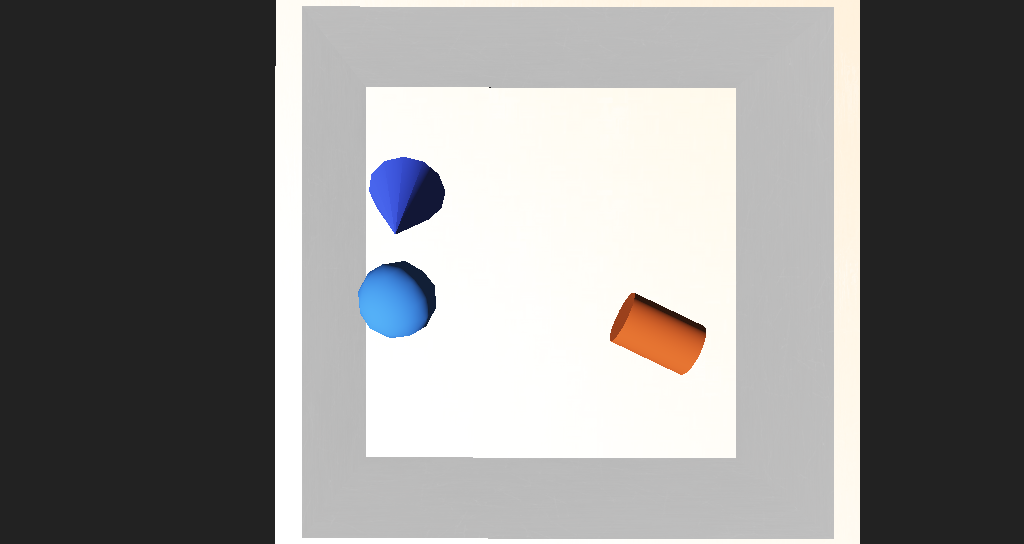cone: (552, 279, 633, 332)
cylinder: (347, 196, 421, 262)
sphere: (354, 265, 414, 308)
